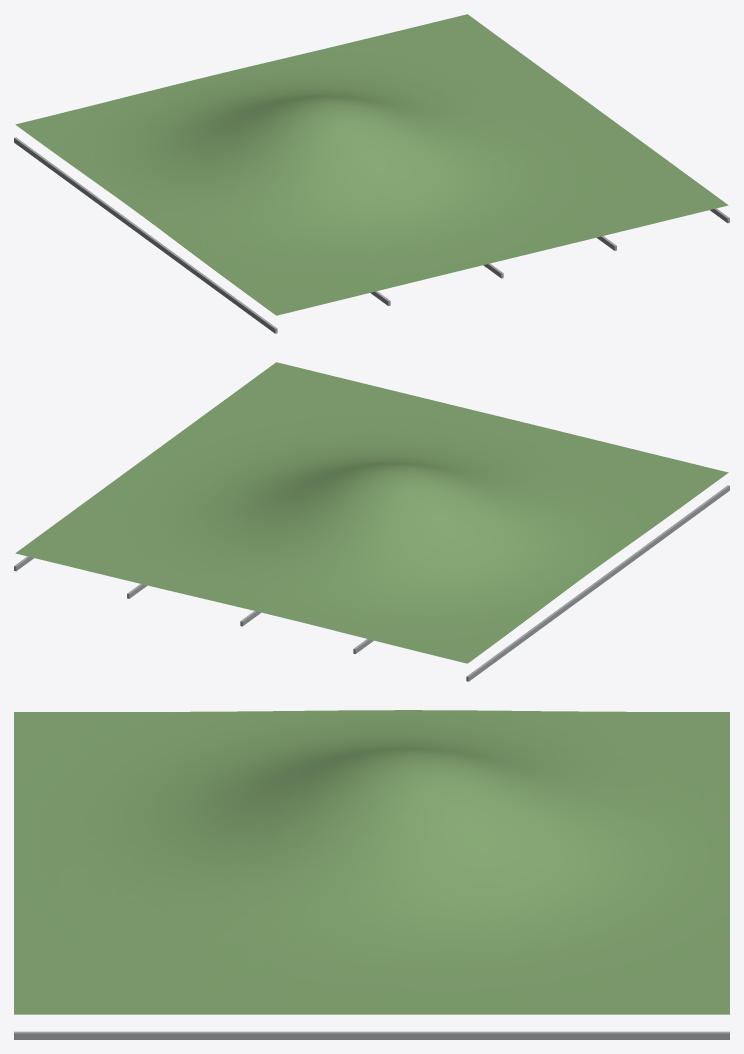
Rendered from grid-references.glb.
The picture shows the model from 3 angles, top to bottom: view 1: azimuth 30°, elevation 25°; view 2: azimuth 150°, elevation 25°; view 3: azimuth 270°, elevation 25°; orthographic projection. The views are drawn at different scales.
Parts seen in each view (by area): view 1: Grid_Terrain, Grid_Km_0; view 2: Grid_Terrain, Grid_Km_0; view 3: Grid_Terrain, Grid_Km_4.
Part boxes in pixels (box(x1,y1,x2,y2)): Grid_Terrain: box(15, 14, 728, 315); Grid_Km_0: box(14, 137, 277, 333); Grid_Terrain: box(15, 362, 728, 663); Grid_Km_0: box(466, 485, 729, 681); Grid_Terrain: box(14, 710, 729, 1014); Grid_Km_4: box(14, 1031, 729, 1039).
Bounding box in the file's own units: 4.02 × 0.5997 × 4.
